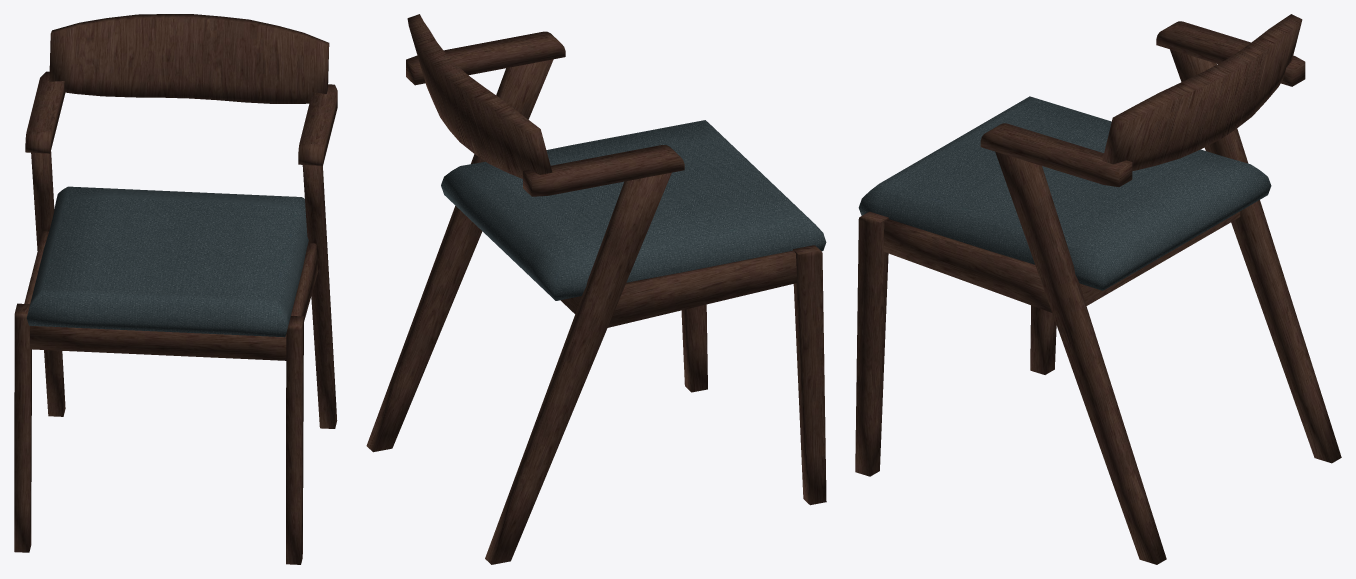
The picture shows the model from 3 angles, left to right: view 1: azimuth 30°, elevation 25°; view 2: azimuth 150°, elevation 25°; view 3: azimuth 270°, elevation 25°; orthographic projection. The views are drawn at different scales.
Visible parts, largest first — view 1: Chair Cushion_Low, Chair Back_Low, Front Side Rail_Low, Right Back Leg_Low, Right Front Leg_Low, Left Font Leg_Low, Left Back Leg_Low, Right Arm Rest_Low, Left Arm Rest_Low, Right Side Rail_Low, Left Side Rail_Low; view 2: Chair Cushion_Low, Left Back Leg_Low, Right Back Leg_Low, Chair Back_Low, Left Font Leg_Low, Left Side Rail_Low, Left Arm Rest_Low, Right Arm Rest_Low, Right Front Leg_Low; view 3: Chair Cushion_Low, Right Back Leg_Low, Chair Back_Low, Left Back Leg_Low, Right Front Leg_Low, Right Side Rail_Low, Right Arm Rest_Low, Left Arm Rest_Low, Left Font Leg_Low, Back Side Rail_Low.
Part boxes in pixels (bbox=[...]): Chair Cushion_Low: bbox=[26, 186, 308, 337]; Chair Back_Low: bbox=[49, 14, 329, 103]; Front Side Rail_Low: bbox=[30, 325, 286, 360]; Right Back Leg_Low: bbox=[302, 165, 337, 428]; Right Front Leg_Low: bbox=[286, 316, 303, 564]; Left Font Leg_Low: bbox=[14, 303, 31, 552]; Left Back Leg_Low: bbox=[31, 151, 65, 416]; Right Arm Rest_Low: bbox=[298, 84, 337, 165]; Left Arm Rest_Low: bbox=[25, 71, 65, 153]; Right Side Rail_Low: bbox=[291, 243, 318, 321]; Left Side Rail_Low: bbox=[24, 231, 48, 303]; Chair Cushion_Low: bbox=[441, 120, 826, 300]; Left Back Leg_Low: bbox=[485, 172, 671, 564]; Right Back Leg_Low: bbox=[366, 59, 553, 452]; Chair Back_Low: bbox=[407, 14, 552, 178]; Left Font Leg_Low: bbox=[793, 245, 826, 505]; Left Side Rail_Low: bbox=[607, 250, 797, 327]; Left Arm Rest_Low: bbox=[523, 145, 684, 196]; Right Arm Rest_Low: bbox=[406, 31, 565, 85]; Right Front Leg_Low: bbox=[681, 304, 707, 392]; Chair Cushion_Low: bbox=[858, 96, 1271, 290]; Right Back Leg_Low: bbox=[995, 151, 1166, 564]; Chair Back_Low: bbox=[1102, 14, 1302, 170]; Left Back Leg_Low: bbox=[1170, 49, 1341, 463]; Right Front Leg_Low: bbox=[855, 211, 888, 476]; Right Side Rail_Low: bbox=[883, 219, 1051, 312]; Right Arm Rest_Low: bbox=[980, 123, 1132, 186]; Left Arm Rest_Low: bbox=[1156, 21, 1305, 86]; Left Font Leg_Low: bbox=[1030, 305, 1056, 374]; Back Side Rail_Low: bbox=[1079, 211, 1240, 305].
Size of the model in its own units: 1.05 by 1.08 by 1.08.
1 material, 1 textured.
